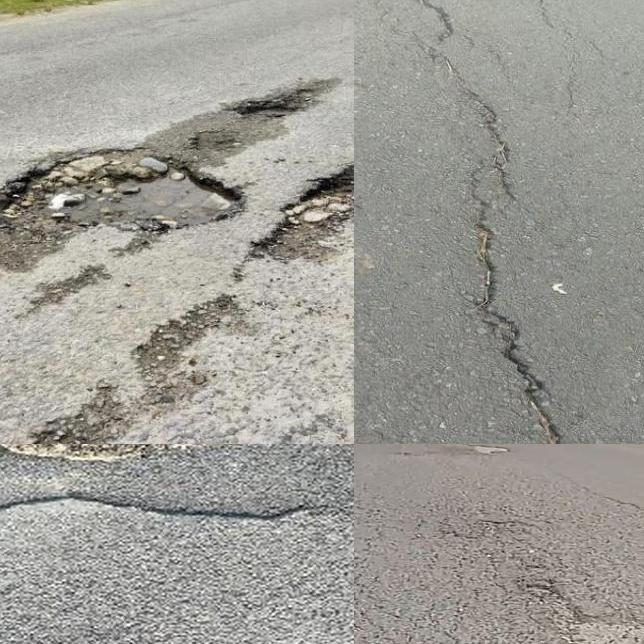Lubang: (0, 142, 248, 245), (276, 163, 354, 244)
Memanjang: (391, 0, 603, 444)
